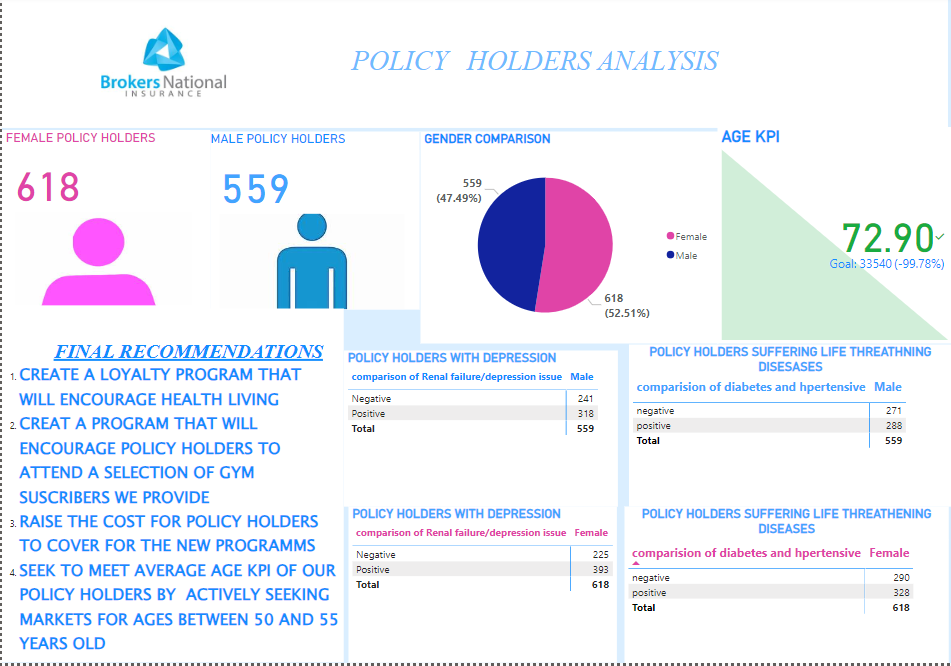

The page's visual inventory and layout, read from the dashboard file:
{"tool":"powerbi","page":{"name":"Page 2","canvas":[1433,920],"ordinal":0},"visuals":[{"type":"textbox","box":[10,0,1422.9,155.7],"z":0},{"type":"image","box":[0,0,459.3,166.9],"z":1000},{"type":"cardVisual","fields":{"Data":["data01.Female"]},"box":[0,167.6,205.6,195.6],"z":2000},{"type":"cardVisual","fields":{"Data":["data01.Male"]},"box":[0,363.2,205.6,189.6],"z":3000},{"type":"cardVisual","title":"Average Age","fields":{"Data":["data01.average age"]},"box":[0,550.8,205.6,153.7],"z":4000},{"type":"pieChart","title":"Policy Holders by gender distribution","fields":{"Y":["data01.Female","data01.Male"]},"box":[920,155.7,514.9,207.5],"z":5000},{"type":"lineStackedColumnComboChart","title":"Female policy holders with a diagnosis of diabetes.","fields":{"Category":["data01.comparision of diabetes and hpertensive"],"Y":["data01.Female"]},"box":[205.6,187.6,331.3,365.2],"z":6000},{"type":"card","title":"Average BMI of policy holders","fields":{"Values":["data01.avegare bmi"]},"box":[0,702.5,205.6,203.6],"z":7000},{"type":"hundredPercentStackedColumnChart","title":"Male Policy Holders with a diagnosis of diabetes","fields":{"Category":["data01.comparision of diabetes and hpertensive"],"Y":["data01.Male"]},"box":[205.6,568.8,329.3,337.3],"z":8000},{"type":"textbox","box":[920,363.2,512.9,562.8],"z":9000},{"type":"donutChart","title":"Female policy Holders with depression","fields":{"Y":["data01.Female"],"Category":["data01.comparison of Renal failure/depression issue"]},"box":[548.8,371.2,371.2,257.4],"z":10000},{"type":"donutChart","title":"Male policy Holders with depression","fields":{"Category":["data01.comparison of Renal failure/depression issue"],"Y":["data01.Male"]},"box":[548.8,642.6,371.2,263.4],"z":11000},{"type":"kpi","title":"KPI For Age Attrition","fields":{"Indicator":["data01.average age"],"TrendLine":["data01.gender"],"Goal":["Sum(data01.TARGET AGE)"]},"box":[536.8,187.6,383.2,161.6],"z":12000}]}

Visuals, with their boxes on the page's 1433x920 design canvas (x1, y1, x2, y2). These are canvas units, not pixel positions in the 951x666 screenshot, which may show the page scaled, cropped or inside an application window:
textbox: pyautogui.locateOnScreen(10, 0, 1433, 156)
image: pyautogui.locateOnScreen(0, 0, 459, 167)
cardVisual - data01.Female: pyautogui.locateOnScreen(0, 168, 206, 363)
cardVisual - data01.Male: pyautogui.locateOnScreen(0, 363, 206, 553)
"Average Age" cardVisual: pyautogui.locateOnScreen(0, 551, 206, 704)
"Policy Holders by gender distribution" pieChart: pyautogui.locateOnScreen(920, 156, 1435, 363)
"Female policy holders with a diagnosis of diabetes." lineStackedColumnComboChart: pyautogui.locateOnScreen(206, 188, 537, 553)
"Average BMI of policy holders" card: pyautogui.locateOnScreen(0, 702, 206, 906)
"Male Policy Holders with a diagnosis of diabetes" hundredPercentStackedColumnChart: pyautogui.locateOnScreen(206, 569, 535, 906)
textbox: pyautogui.locateOnScreen(920, 363, 1433, 926)
"Female policy Holders with depression" donutChart: pyautogui.locateOnScreen(549, 371, 920, 629)
"Male policy Holders with depression" donutChart: pyautogui.locateOnScreen(549, 643, 920, 906)
"KPI For Age Attrition" kpi: pyautogui.locateOnScreen(537, 188, 920, 349)
